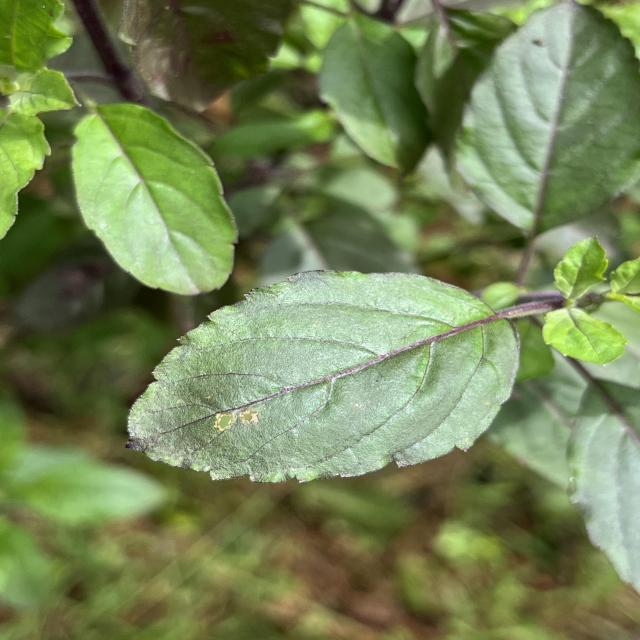Ocimum tenuiflorum: (123, 266, 524, 485)
